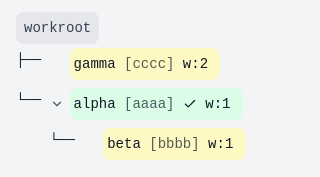
it: TreeView › collapses children when the chevron is clicked
The width and height of the screenshot is (320, 177).
Expected: the button "beta [bbbb] w:1" is shown, [103,128,246,160]
Click the button named "collapse": x=60, y=104 [50,88,70,120]
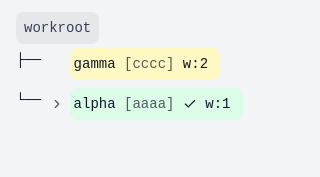
Expected: the button "beta [bbbb]" is gone
Click the button named "expand": x=60, y=104 [50,88,70,120]
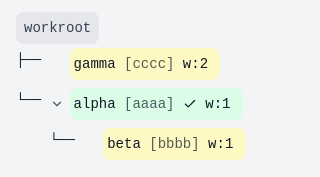
Expected: the button "beta [bbbb] w:1" is shown, [103,128,246,160]
